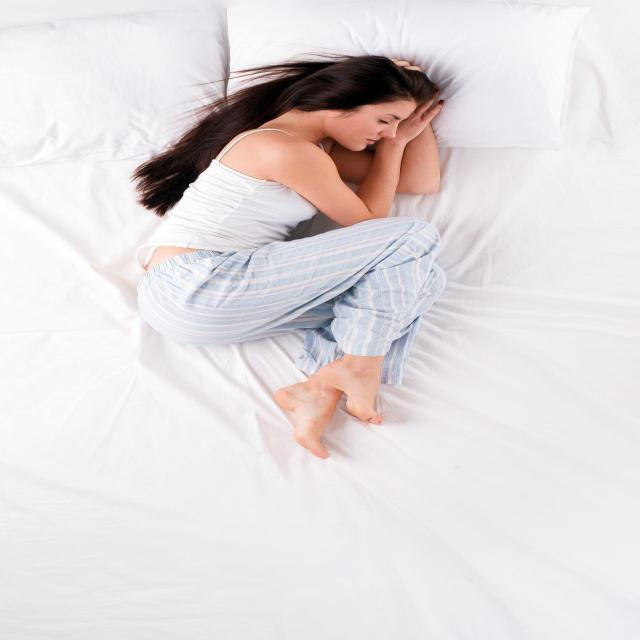sleeping-person: (113, 29, 517, 477)
